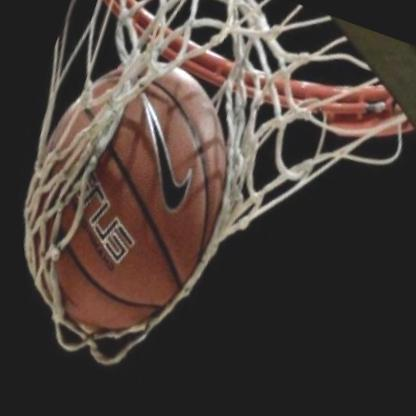basketball: (2, 22, 276, 362)
